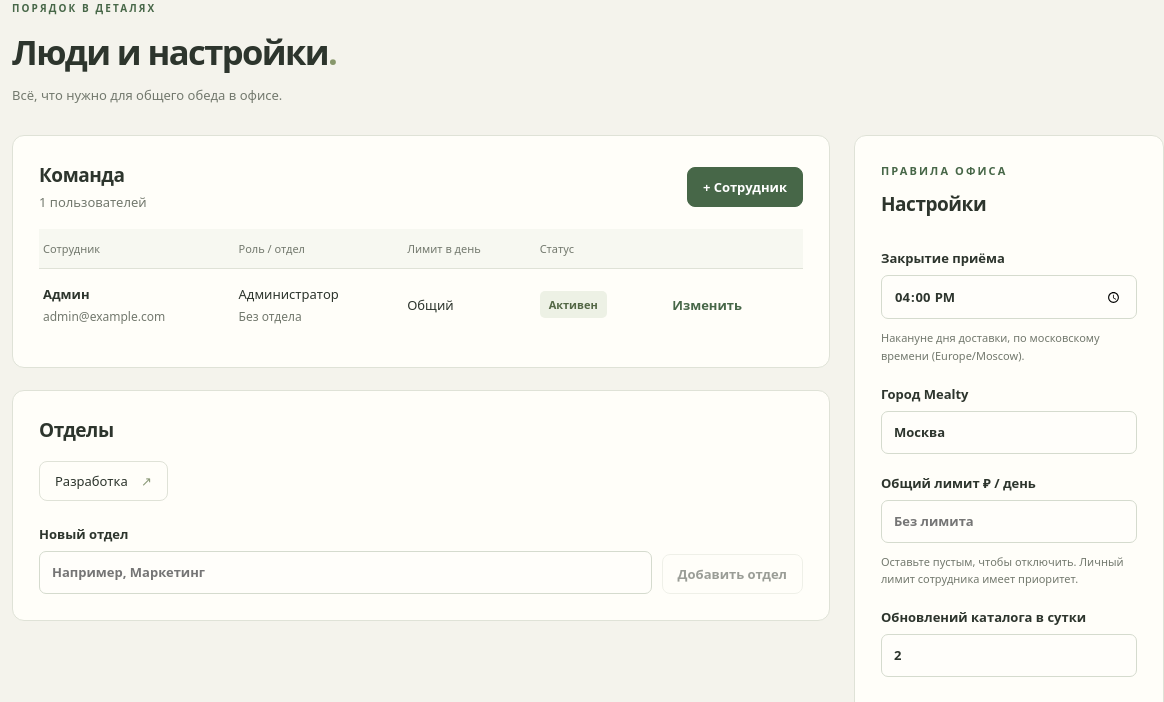
retains settings after a rejected save and allows correction and retry
The image size is (1164, 702).
Step 1. Type "123,456" into the field labelled "Общий лимит ₽ / день" → (1009, 521), box [881,500,1137,543]
(page scrolled)
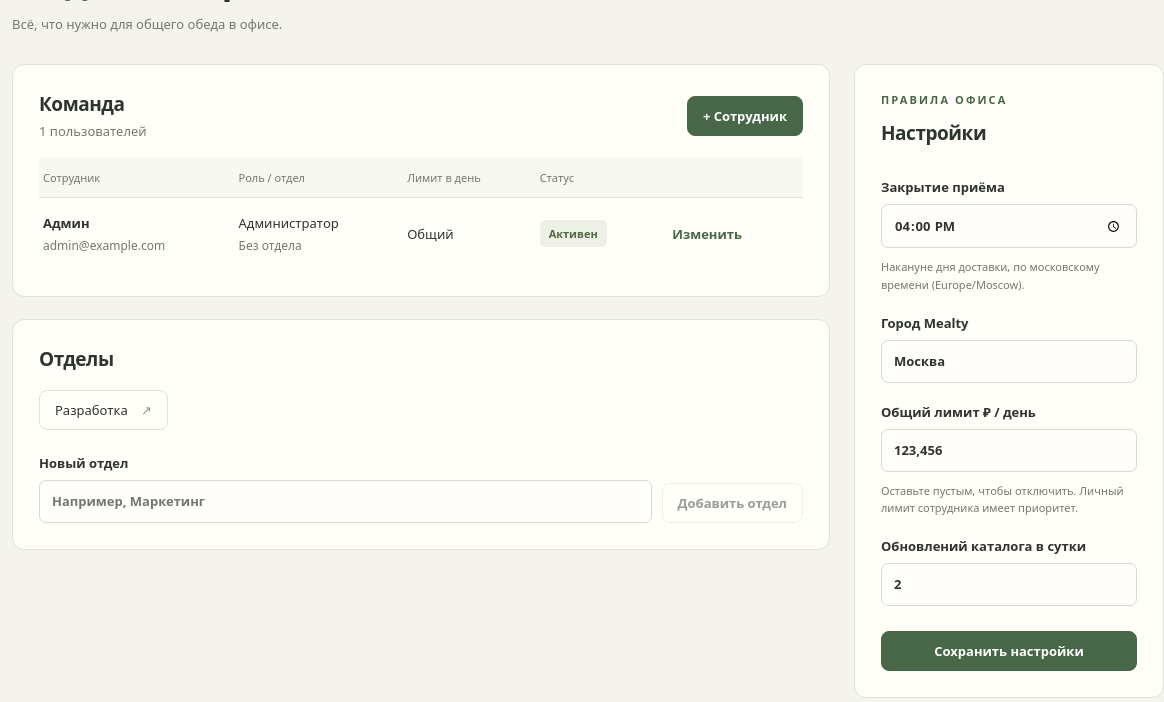
Step 2. Click the button "Сохранить настройки" → (1009, 651), box [881,631,1137,671]
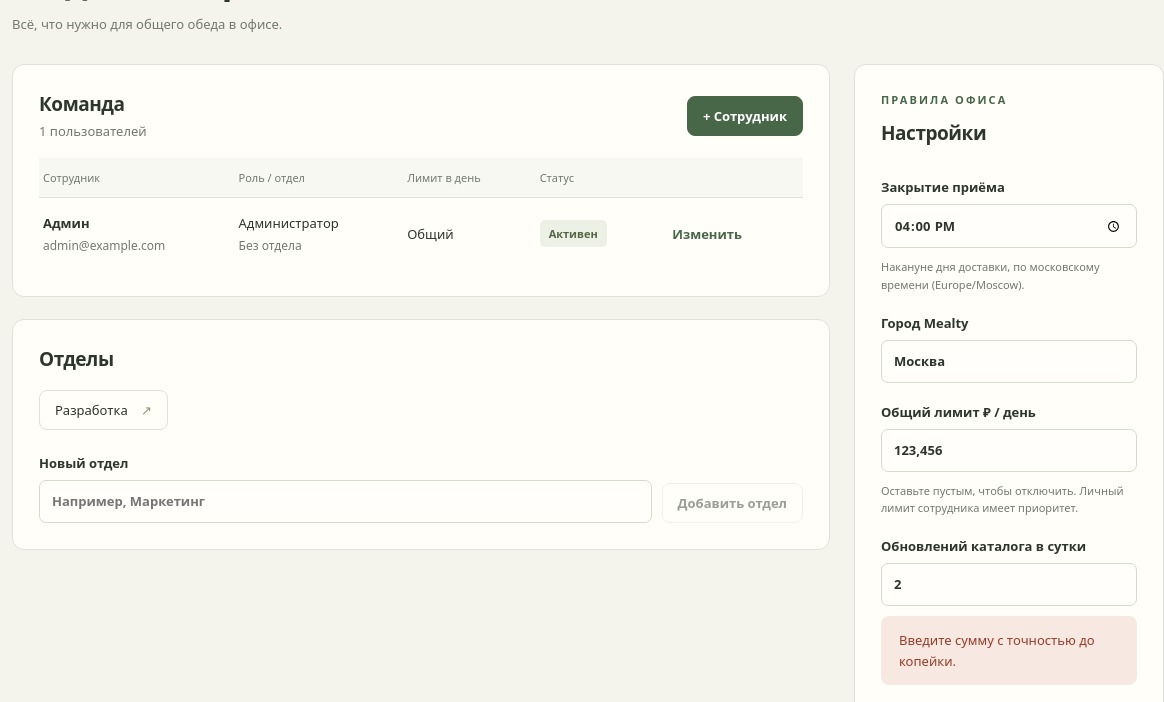
Expected: the message shows "точностью до копейки", [899,631,1095,670]
Step 3. Replace the text in the field labelled "Общий лимит ₽ / день" with "123,45" → (1009, 450), box [881,429,1137,472]
(page scrolled)
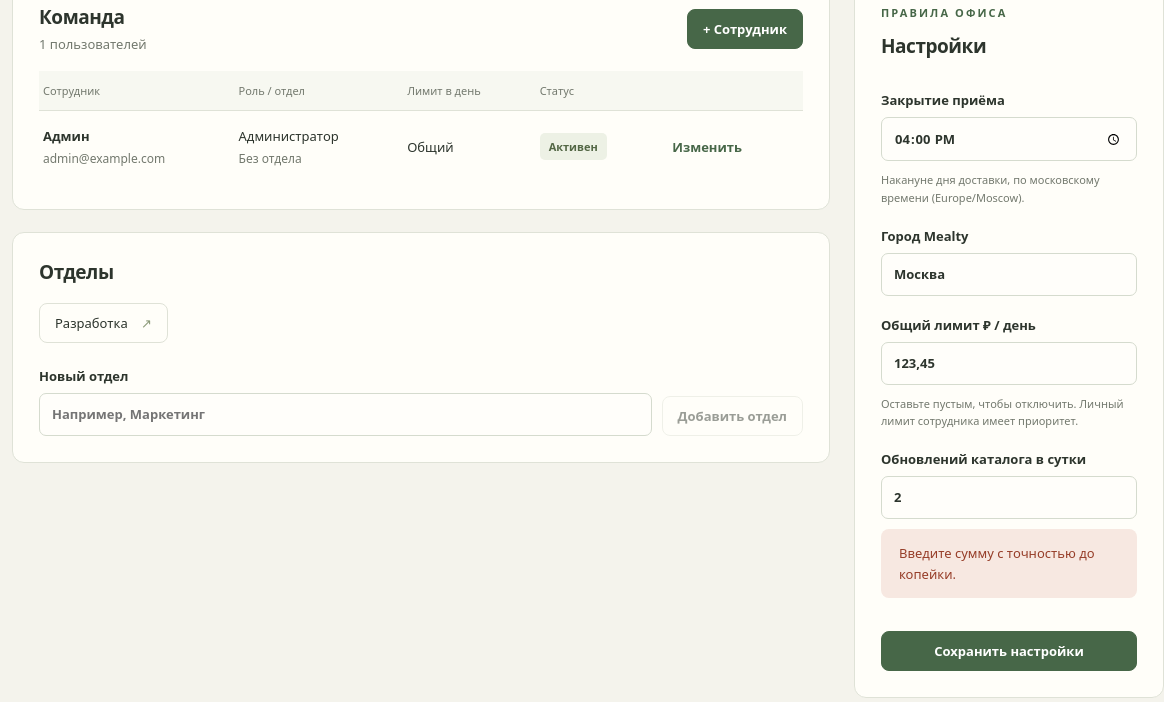
Step 4. Click the button "Сохранить настройки" → (1009, 651), box [881,631,1137,671]
(page scrolled)
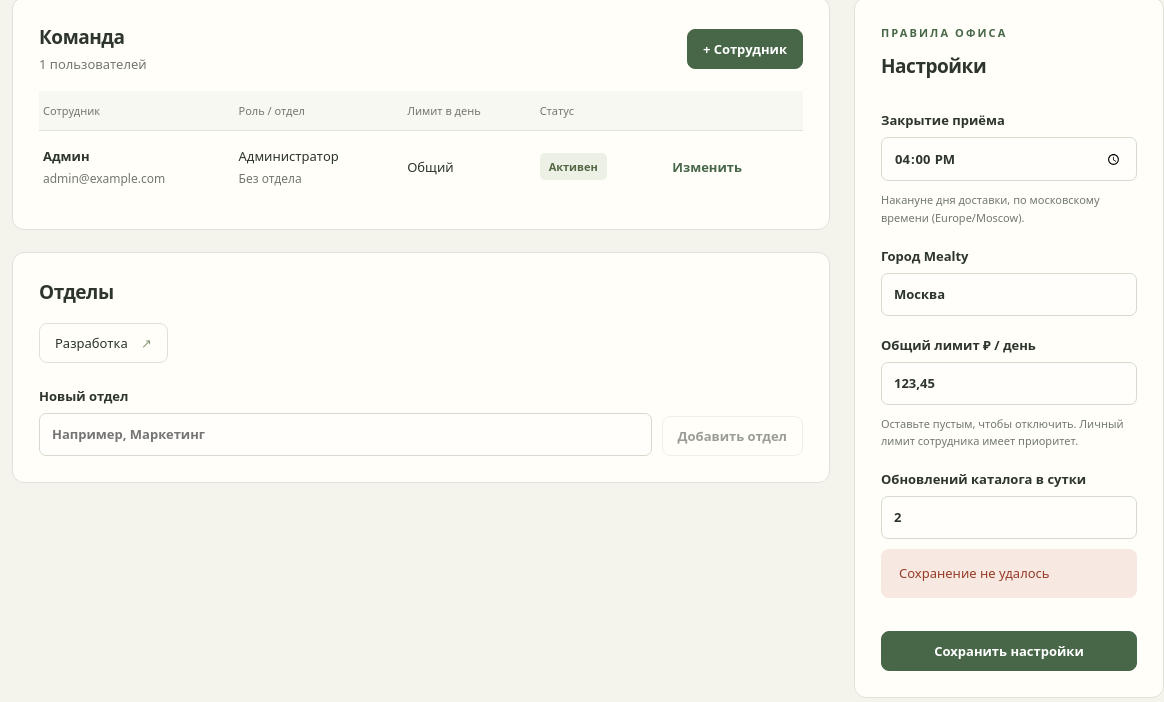
Expected: the text "✓ Настройки сохранены" is not shown
Expected: the message reads "Сохранение не удалось", [899,564,1050,582]
Step 5. Click the button "Сохранить настройки" → (1009, 651), box [881,631,1137,671]
(page scrolled)
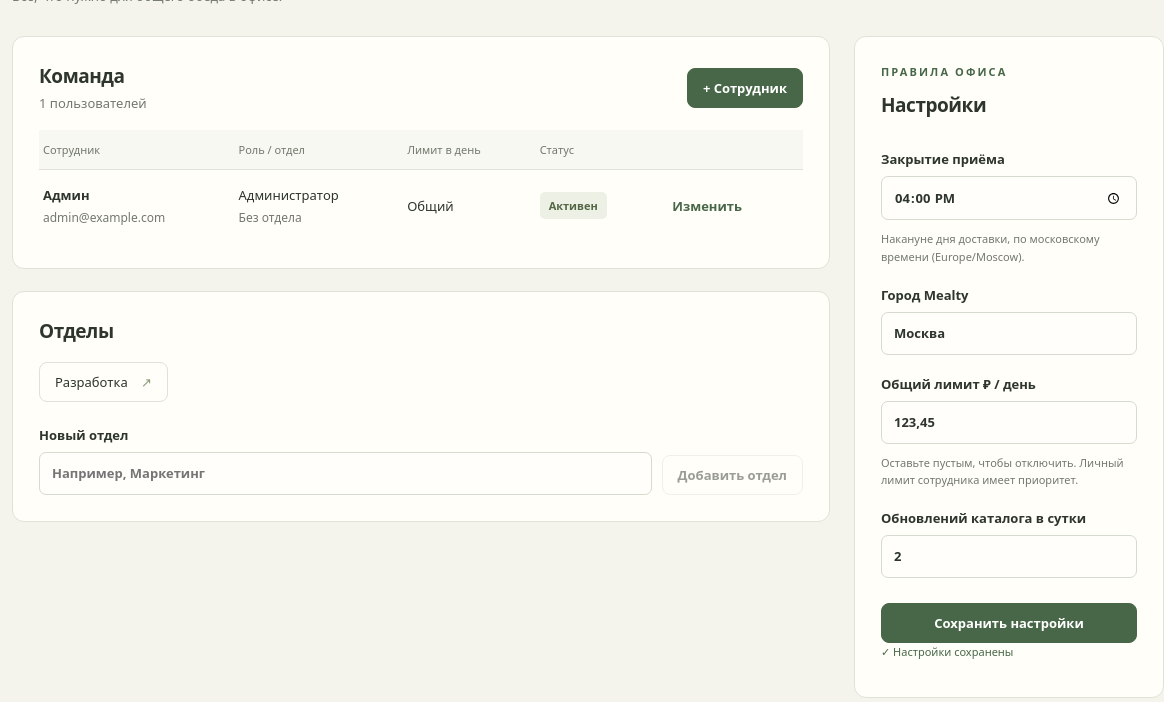
Expected: the text "✓ Настройки сохранены" is shown, [881,644,1013,659]
